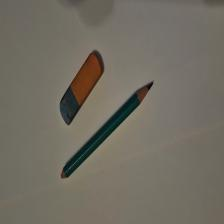eraser: (61, 52, 106, 127)
pencil: (62, 83, 155, 180)
